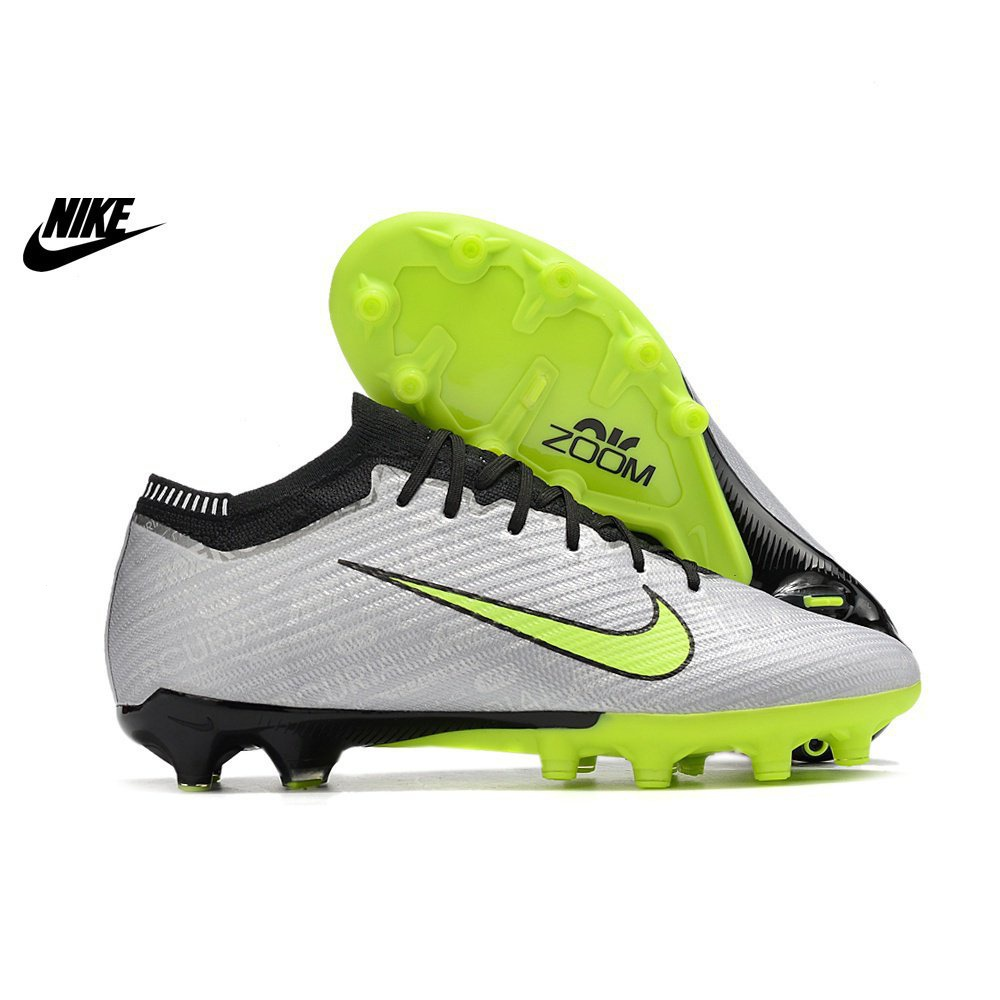soccer shoes: (103, 395, 924, 801), (328, 211, 914, 763)
